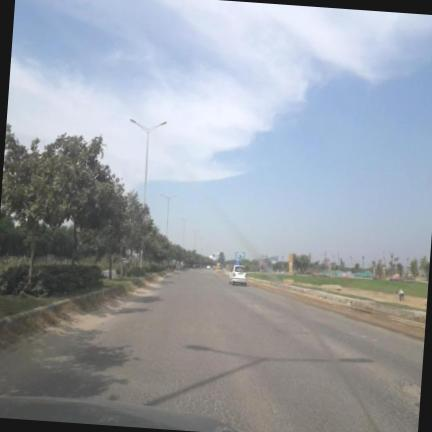Road: (0, 270, 423, 431)
